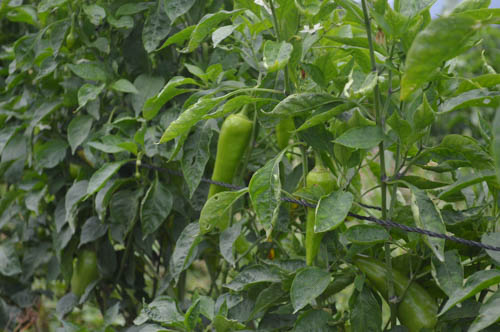ChiliPepper: (354, 254, 441, 325), (209, 116, 252, 217), (305, 171, 334, 262)
